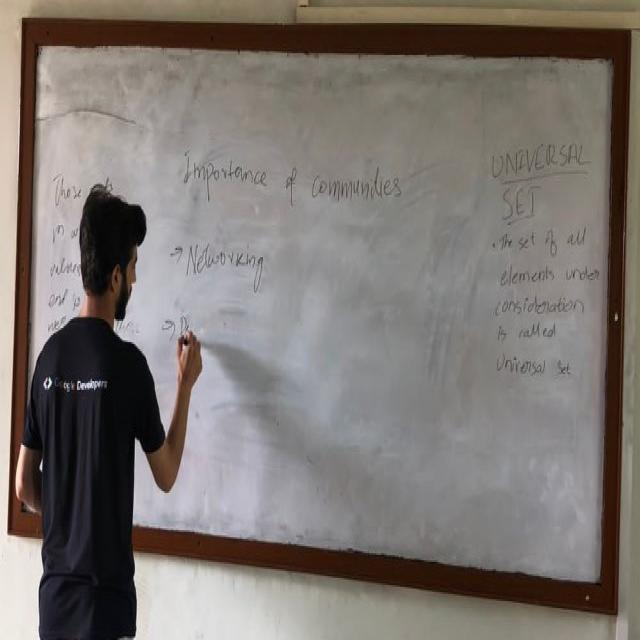Instructor: (19, 191, 153, 640)
White-board: (20, 30, 624, 600)
